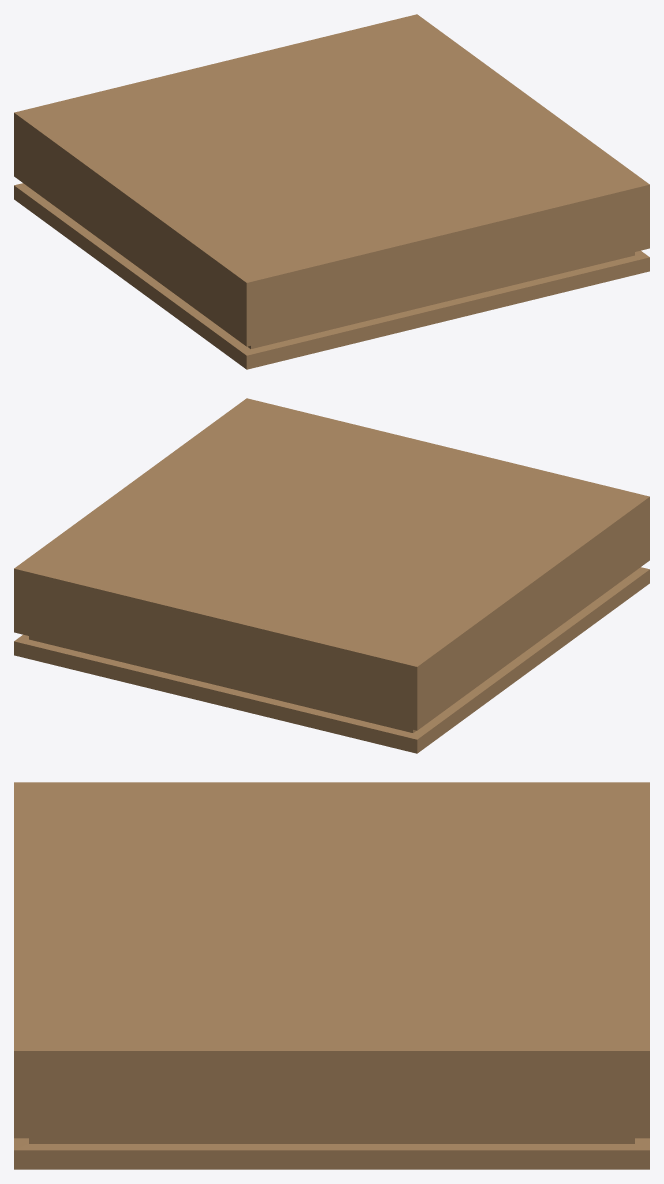
File: router_tier1.fbx
The picture shows the model from 3 angles, top to bottom: view 1: azimuth 30°, elevation 25°; view 2: azimuth 150°, elevation 25°; view 3: azimuth 270°, elevation 25°; orthographic projection. The views are drawn at different scales.
Visible parts, largest first — view 1: Cube; view 2: Cube; view 3: Cube.
Part boxes in pixels (x1,y1,x2,y2): Cube: (14,14,649,369); Cube: (14,398,649,753); Cube: (14,782,649,1169).
Size of the model in its own units: 0.3945 by 0.0811 by 0.3945.
